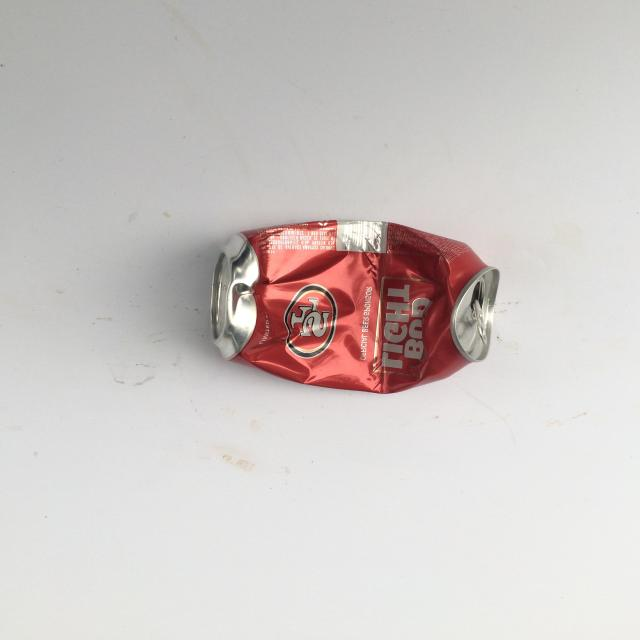metal: (209, 219, 501, 394)
